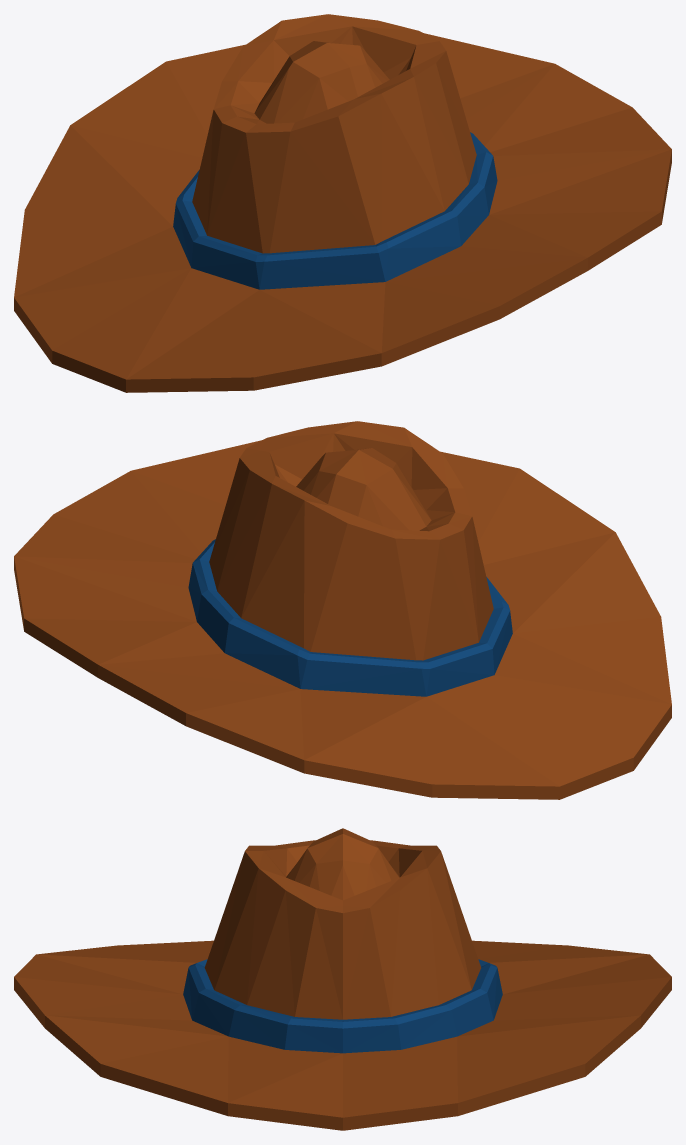
Rendered from Hat.FBX.
3 renders of one model, top to bottom at view 1: azimuth 30°, elevation 25°; view 2: azimuth 150°, elevation 25°; view 3: azimuth 270°, elevation 25°, orthographic.
Parts seen in each view (by area): view 1: Hat; view 2: Hat; view 3: Hat.
Boxes of the visible parts, x1=… form: Hat: x1=14, y1=14, x2=671, y2=392; Hat: x1=14, y1=421, x2=671, y2=799; Hat: x1=14, y1=828, x2=671, y2=1130.
Bounding box in the file's own units: 0.3293 × 0.3282 × 0.1376.
